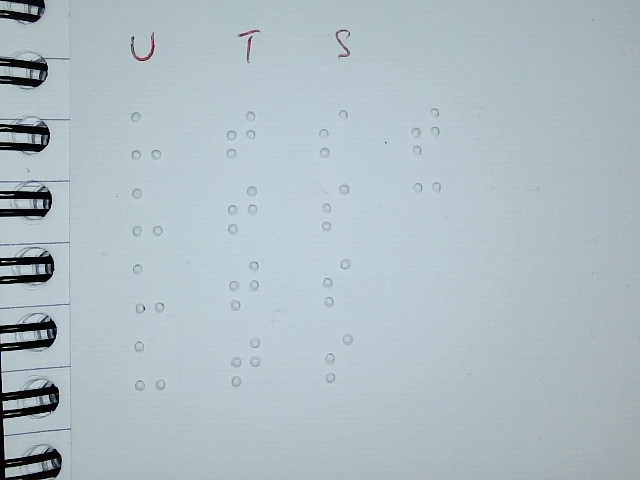S: (316, 107, 350, 160), (319, 180, 353, 233), (320, 255, 354, 308), (322, 331, 356, 384)
T: (224, 107, 258, 160), (226, 183, 260, 236), (227, 258, 261, 311), (229, 335, 263, 388)
U: (132, 261, 166, 315), (133, 339, 167, 393), (129, 109, 163, 162), (131, 185, 165, 238)
